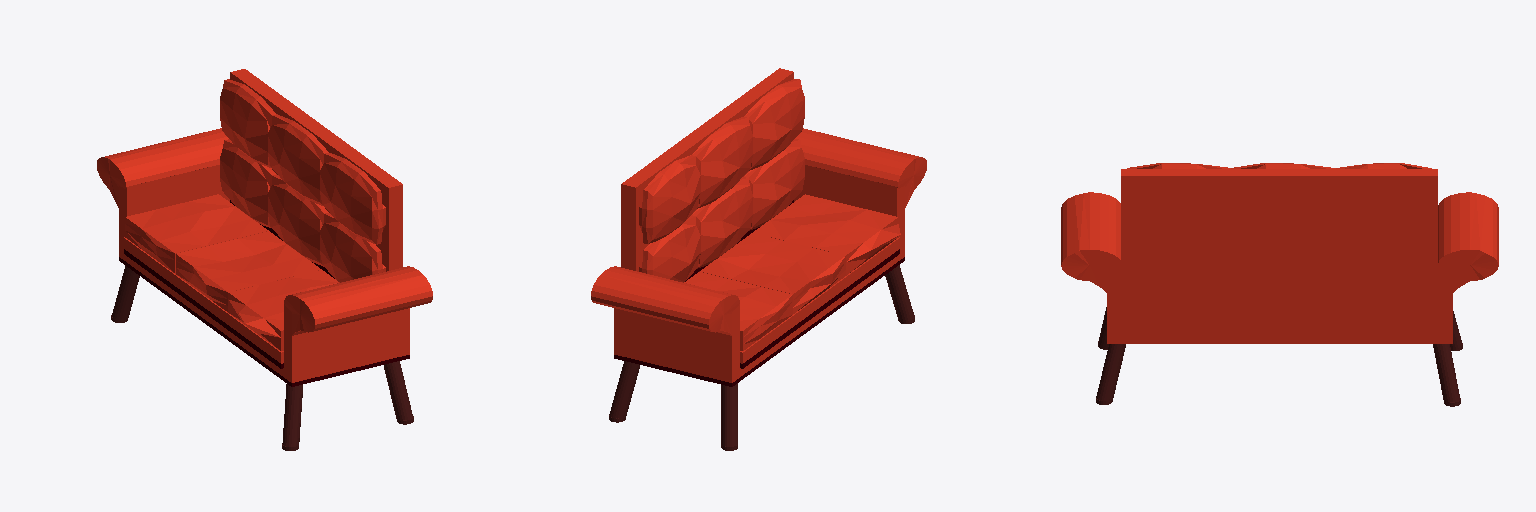
3 views of the same model, side by side, from view 1: azimuth 30°, elevation 25°; view 2: azimuth 150°, elevation 25°; view 3: azimuth 270°, elevation 25° (orthographic).
Visible parts, largest first — view 1: polySurface29; view 2: polySurface29; view 3: polySurface29.
Boxes of the visible parts, box(x1,y1,x2,y2) form: polySurface29: box(97, 69, 432, 450); polySurface29: box(591, 68, 926, 450); polySurface29: box(1061, 163, 1498, 406).
Size of the model in its own units: 2.17 by 3.34 by 5.72.
3 materials, 3 textured.